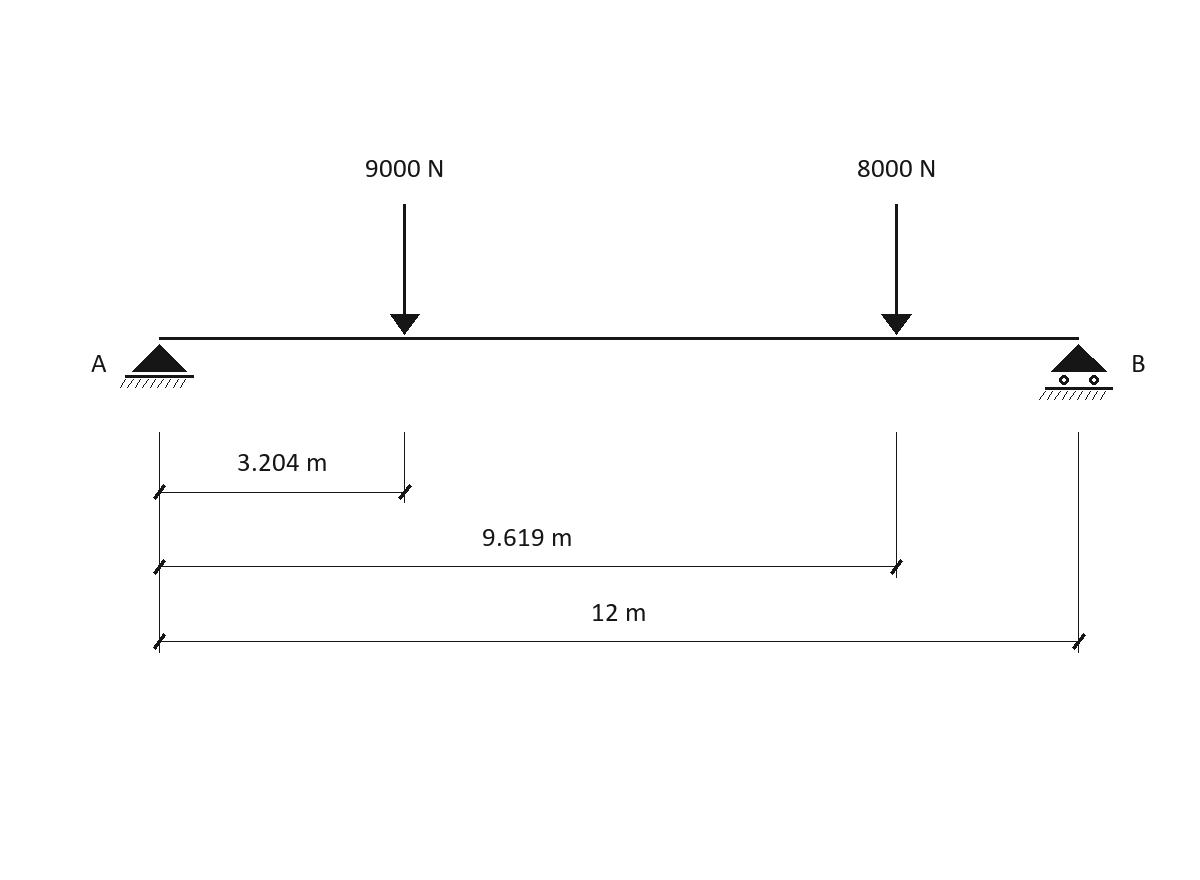pin_support: (120, 344, 194, 388)
point_load: (881, 204, 912, 335), (390, 204, 420, 335)
roller_support: (1039, 344, 1113, 400)
